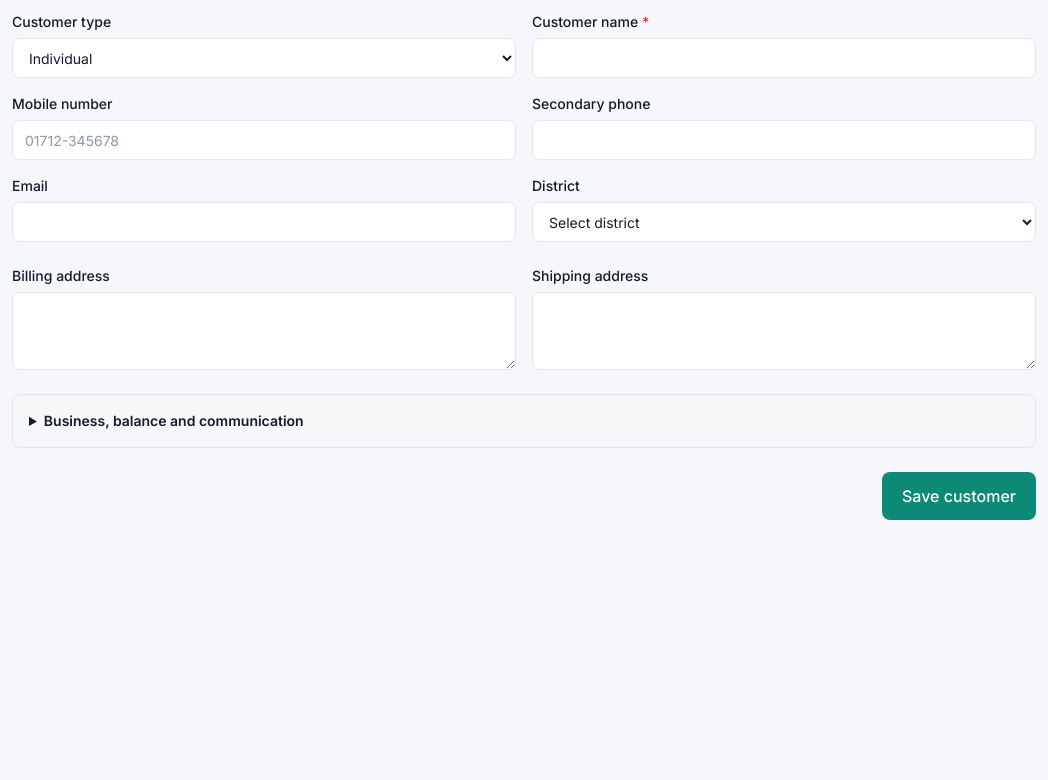
Test: CustomerForm › shows validation errors and does not submit
In the field labelled "Mobile number": (264, 140) top-left (12, 120), bottom-right (516, 160), type "12345"
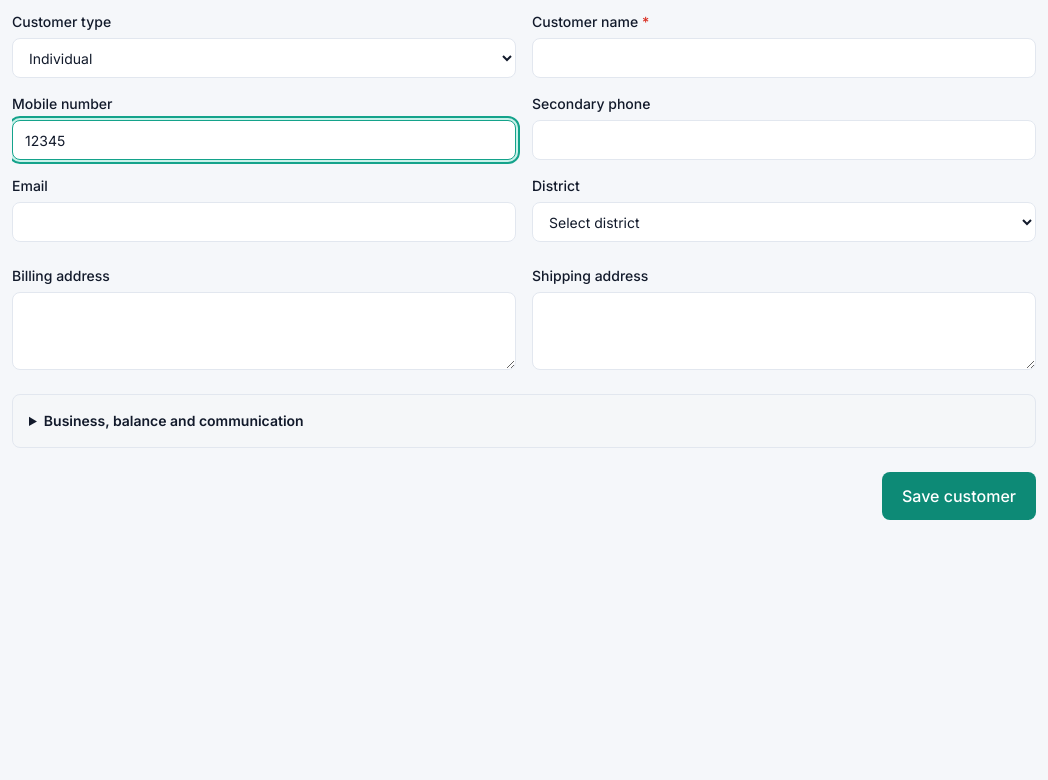
Click the button "Save customer": (959, 496) top-left (882, 472), bottom-right (1036, 520)
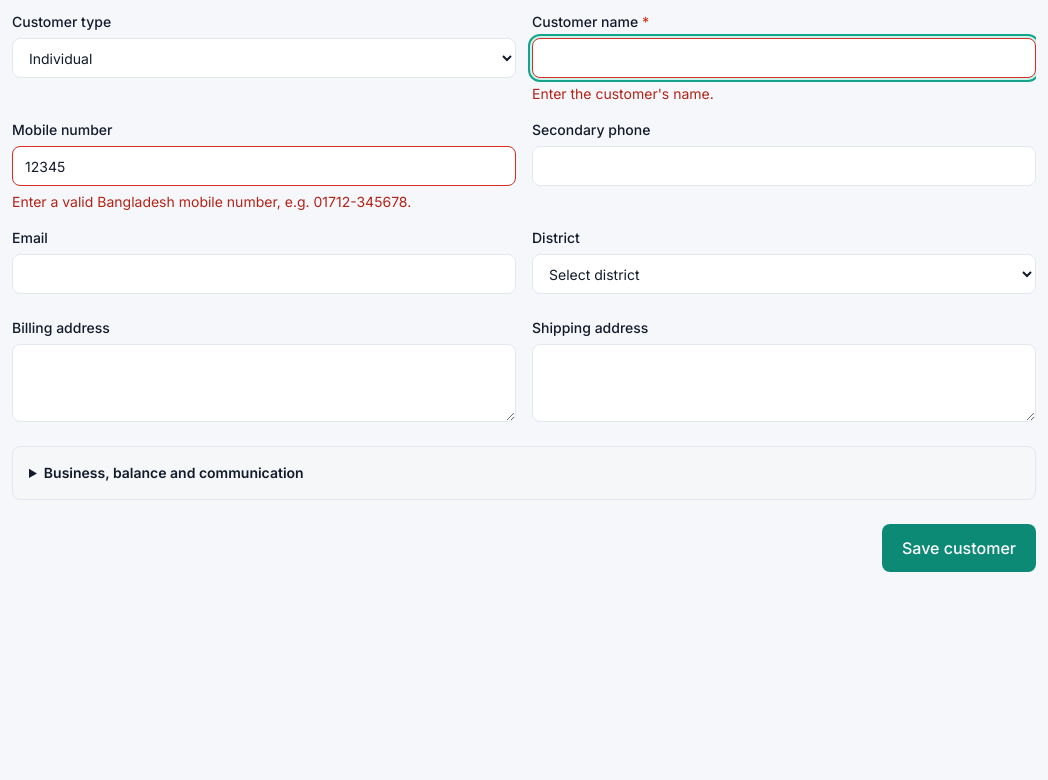
Check: the text "Enter the customer's name." is shown, box top-left (532, 85), bottom-right (714, 102)
Check: the text "Enter a valid Bangladesh mobile number, e.g. 01712-345678." is shown, box top-left (12, 193), bottom-right (411, 210)
